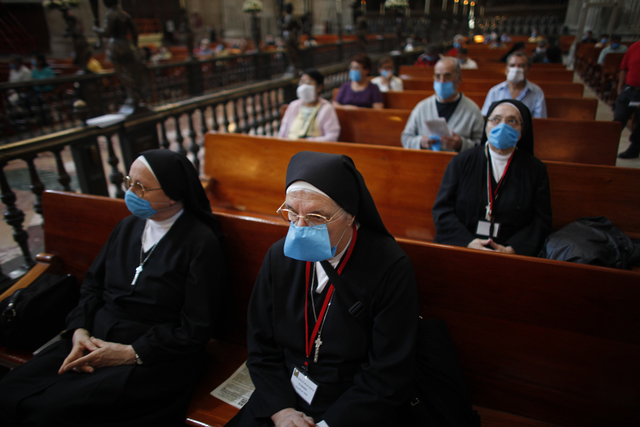mask: (285, 224, 340, 267), (122, 195, 153, 219), (489, 128, 522, 148), (431, 78, 454, 102), (509, 70, 525, 82), (296, 88, 315, 97)
